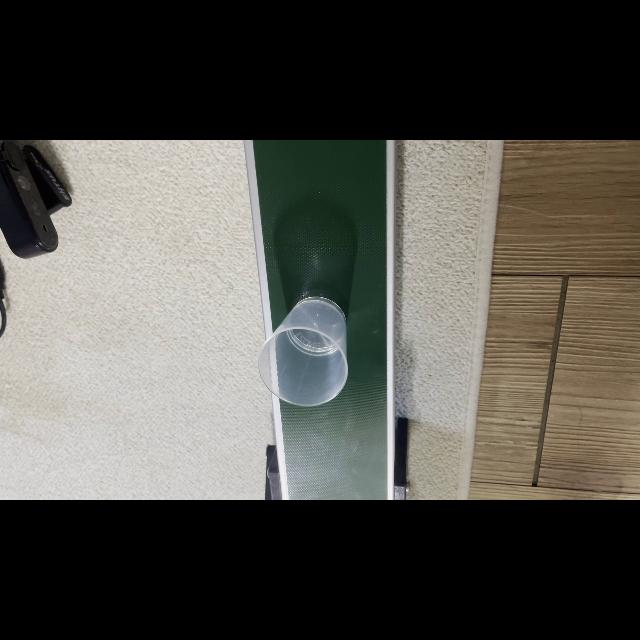clean: (273, 312, 347, 403)
